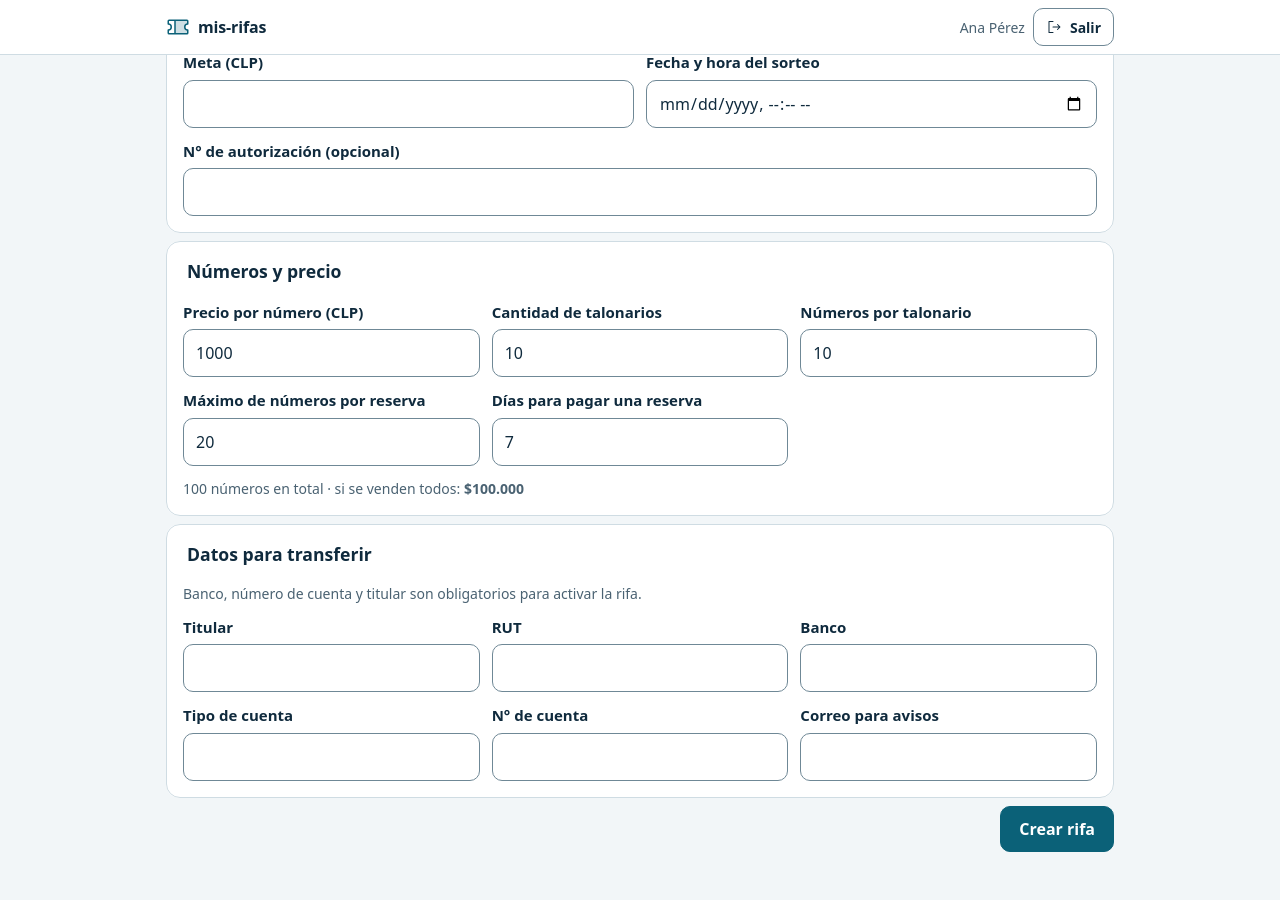
crear rifa › no envía si faltan datos obligatorios
(page scrolled)
What coordinates should you click on to do the following:
click the button "Crear rifa"
I would click on:
 (1057, 829)
Its box is [1000,806,1114,852].
(page scrolled)
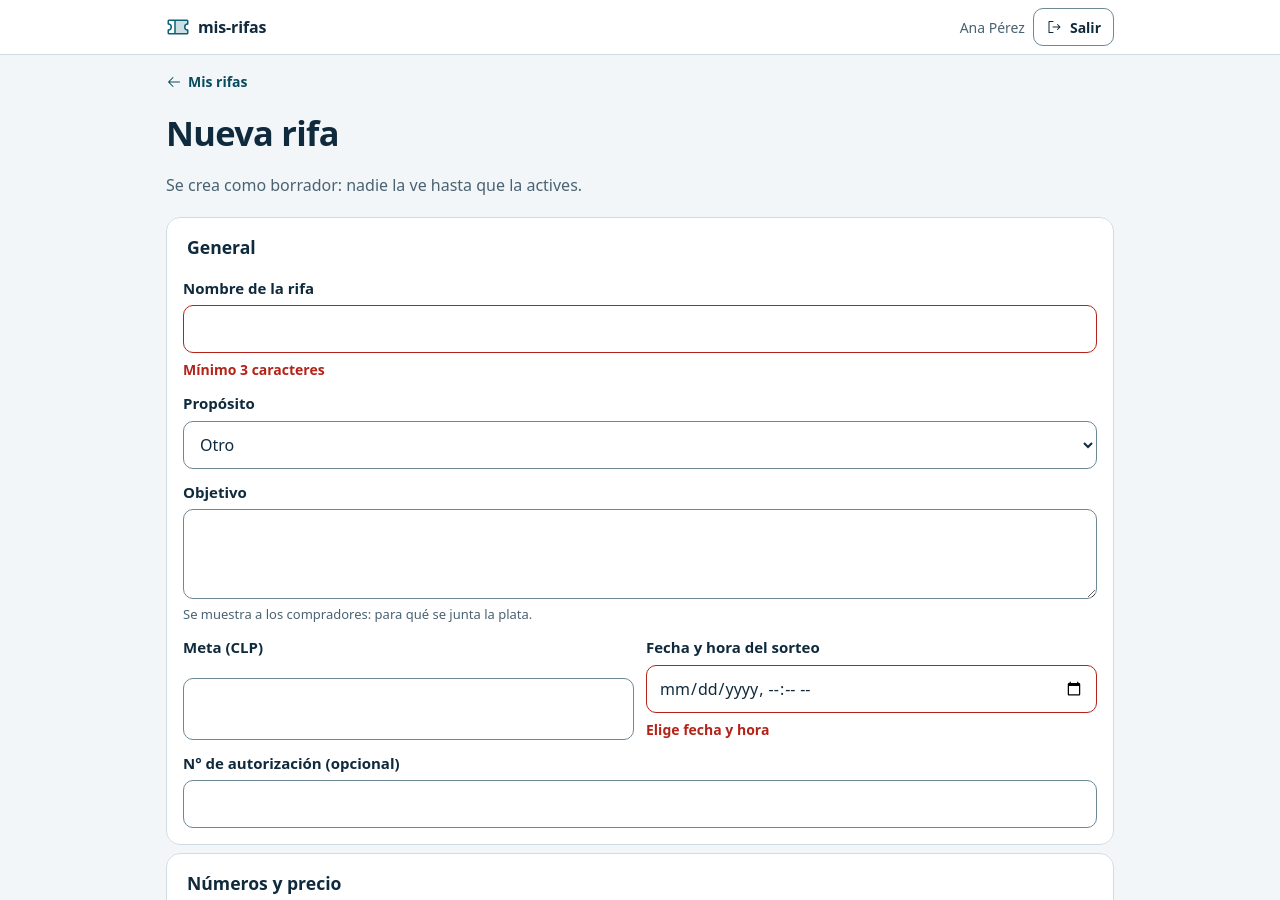
Check: the text "Mínimo 3 caracteres" is shown, box [183,360,325,379]
